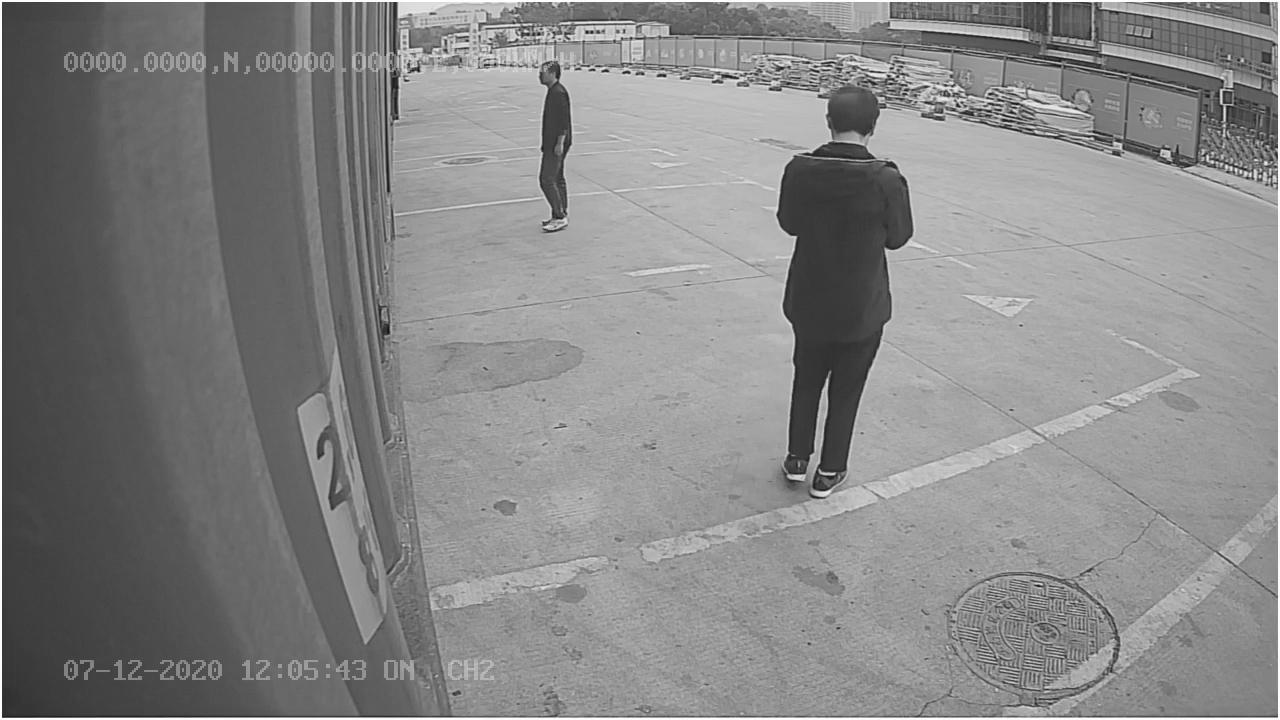person: (766, 78, 917, 506)
